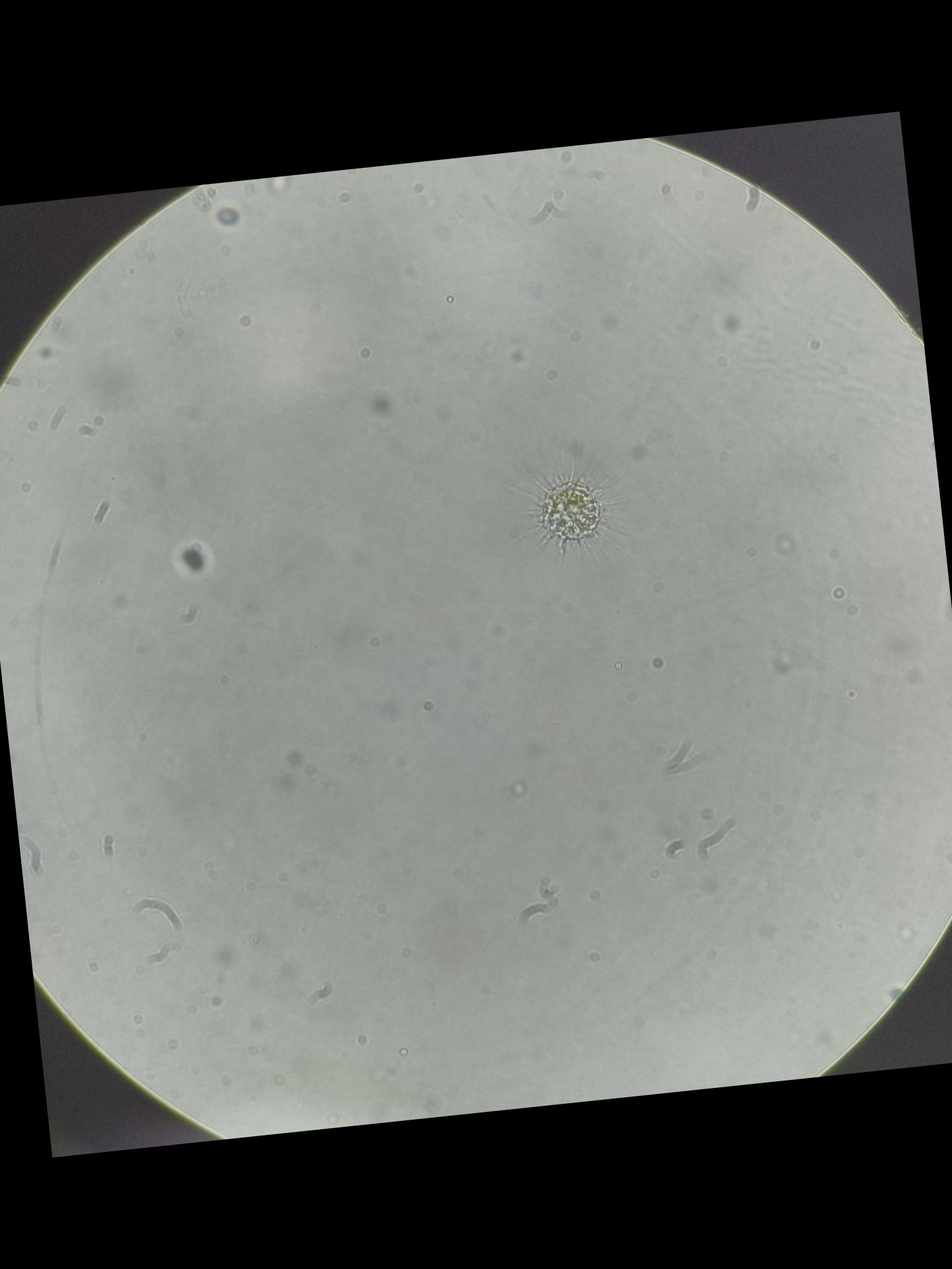Chlorella: (478, 424, 664, 596)
